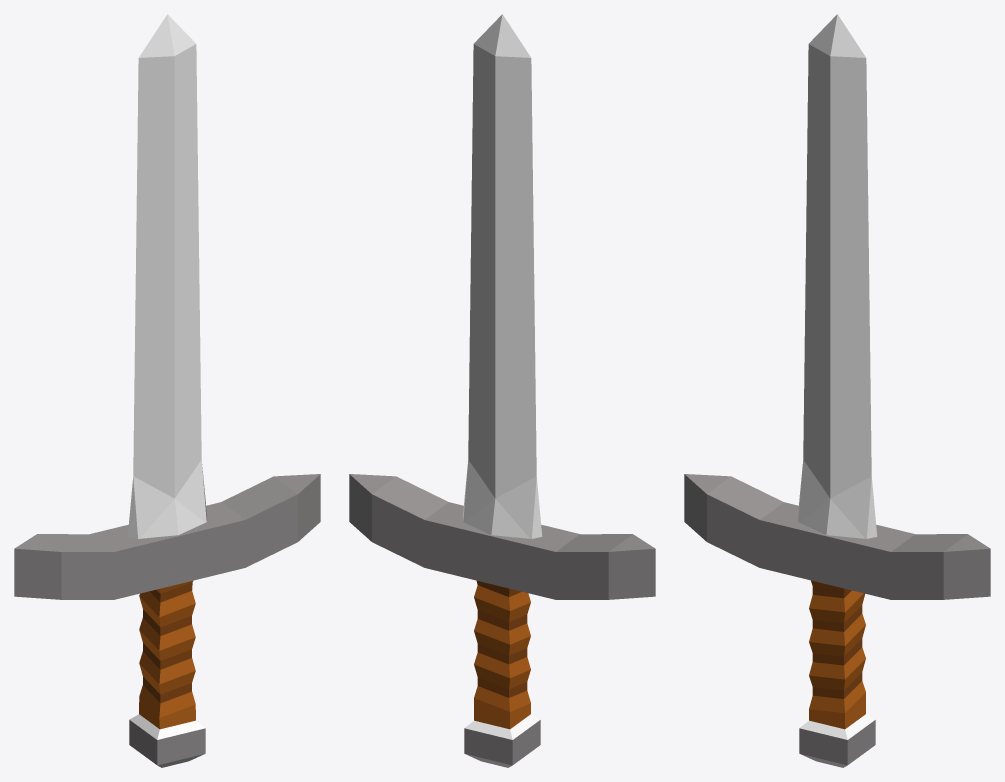
File: schwert.fbx
3 renders of one model, left to right at view 1: azimuth 30°, elevation 25°; view 2: azimuth 150°, elevation 25°; view 3: azimuth 330°, elevation 25°, orthographic.
Parts seen in each view (by area): view 1: schwert.001; view 2: schwert.001; view 3: schwert.001.
Part boxes in pixels (x1,y1,x2,y2): schwert.001: [14, 14, 320, 767]; schwert.001: [349, 14, 655, 767]; schwert.001: [684, 14, 990, 767].
Size of the model in its own units: 74.61 by 173 by 11.79.
